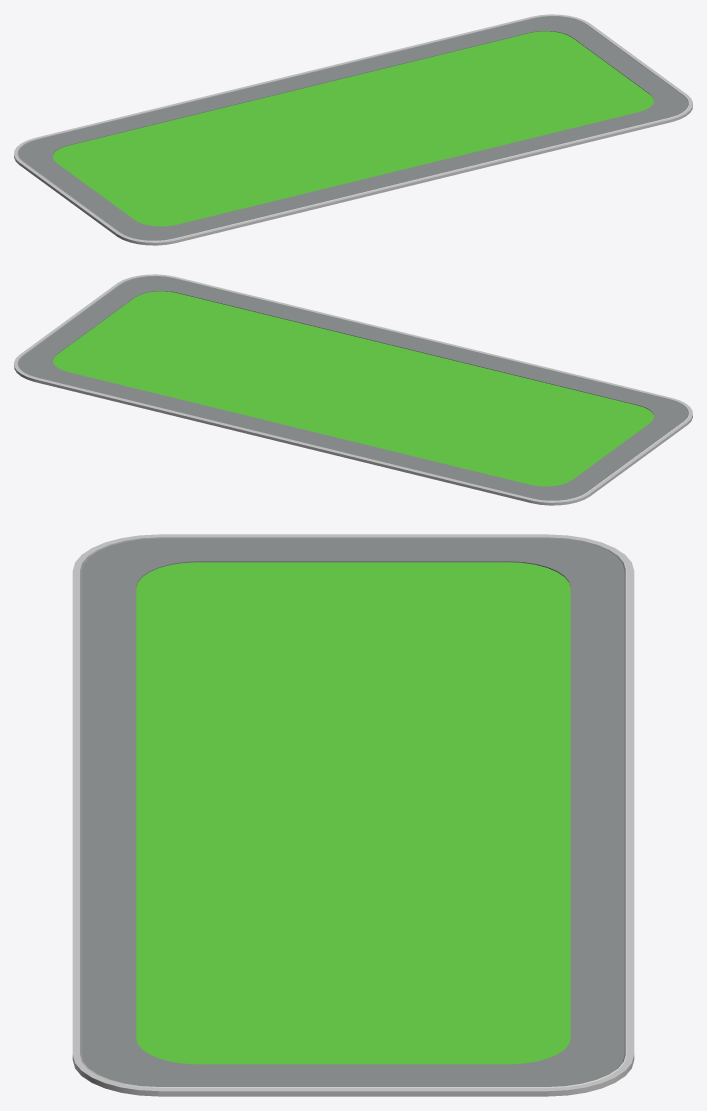
The model's file is quadraDupla.FBX.
The picture shows the model from 3 angles, top to bottom: view 1: azimuth 30°, elevation 25°; view 2: azimuth 150°, elevation 25°; view 3: azimuth 270°, elevation 25°; orthographic projection. The views are drawn at different scales.
Visible parts, largest first — view 1: Plane016, Rectangle004; view 2: Plane016, Rectangle004; view 3: Plane016, Rectangle004.
Boxes of the visible parts, x1,y1,x2,y2 form: Plane016: (53,31,653,226); Rectangle004: (14,14,692,245); Plane016: (53,291,653,486); Rectangle004: (14,274,692,505); Plane016: (136,562,570,1064); Rectangle004: (72,534,634,1096).
Bounding box in the file's own units: 1693 × 8.47 × 722.
